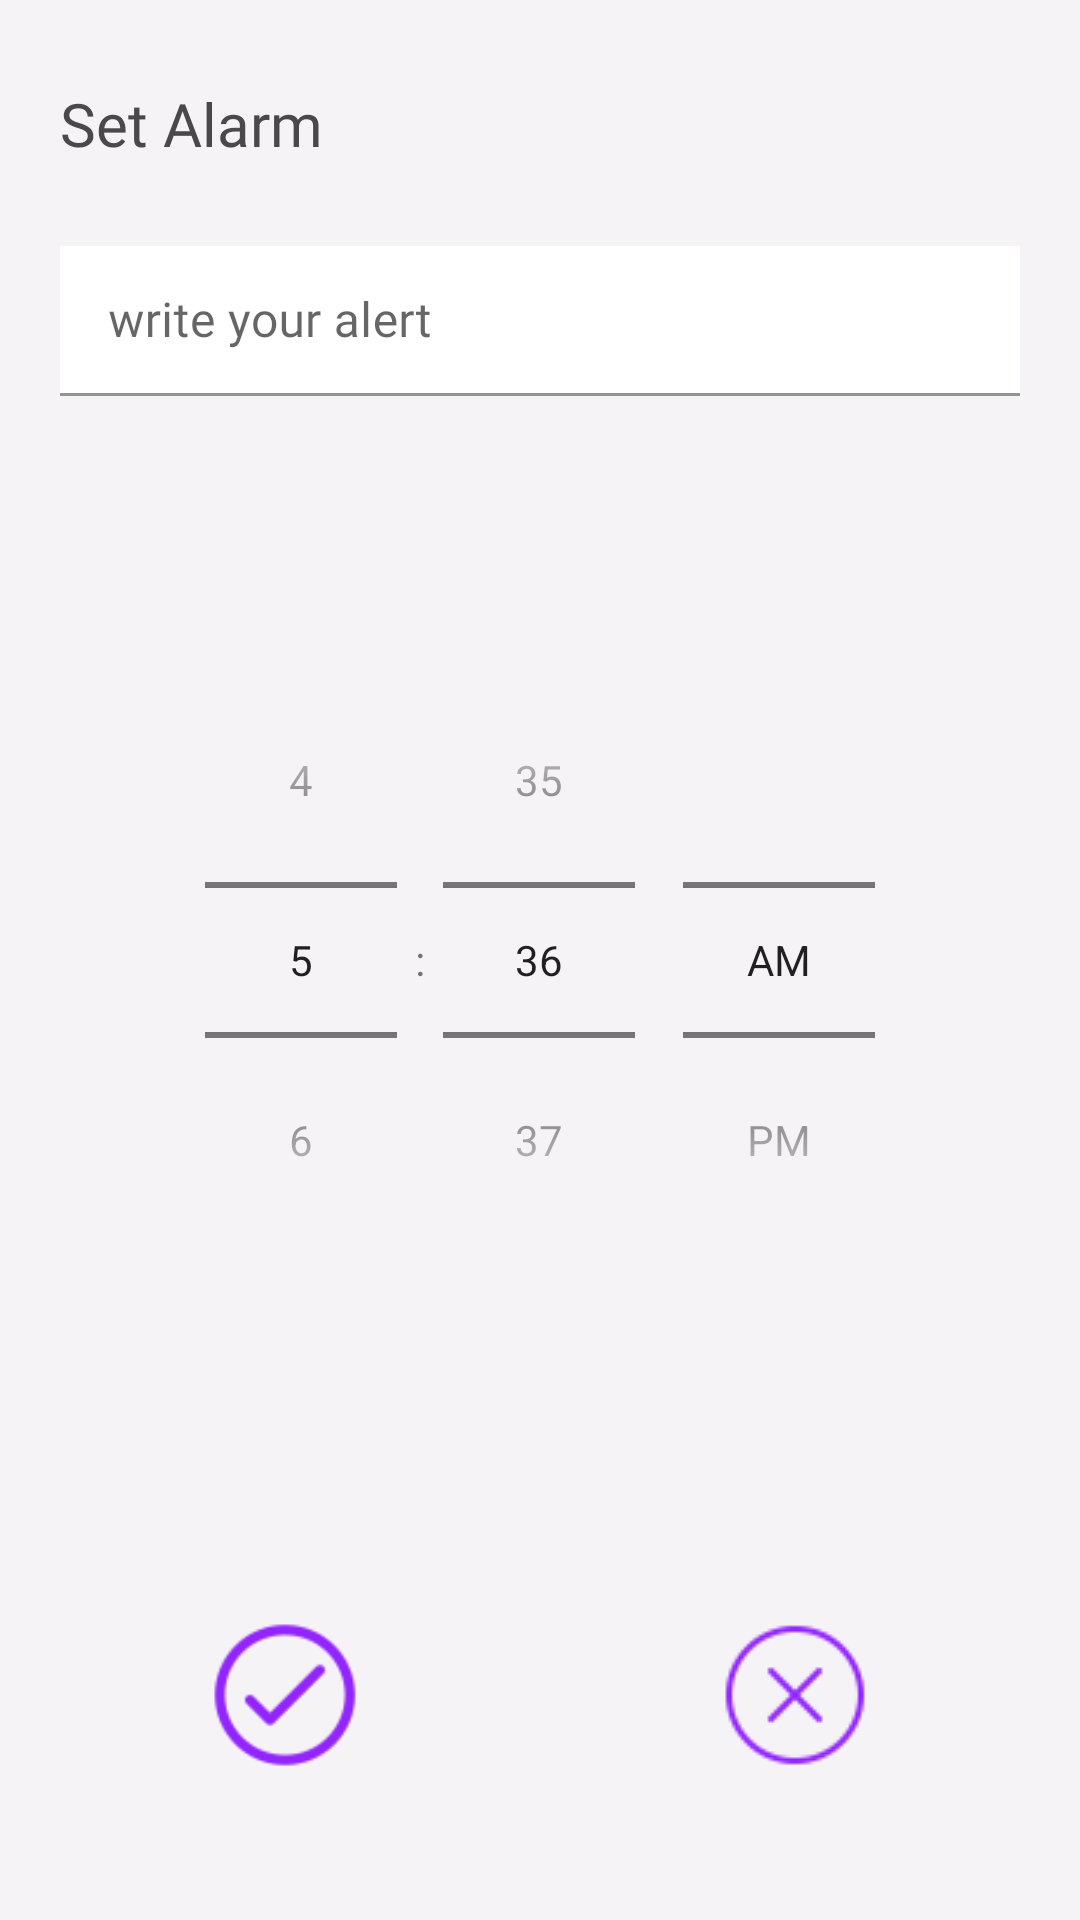

Icons on this 1080px x 1920px Android screen, each with its box as (x1, y1, x2, y2):
cancel: (725, 1625, 865, 1765)
check: (214, 1624, 356, 1766)
